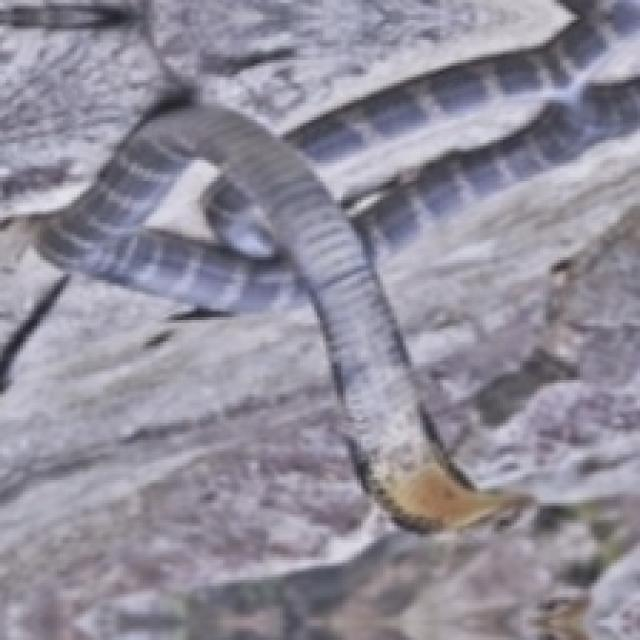king cobra: (0, 0, 386, 637), (151, 0, 637, 500), (100, 163, 303, 309)
